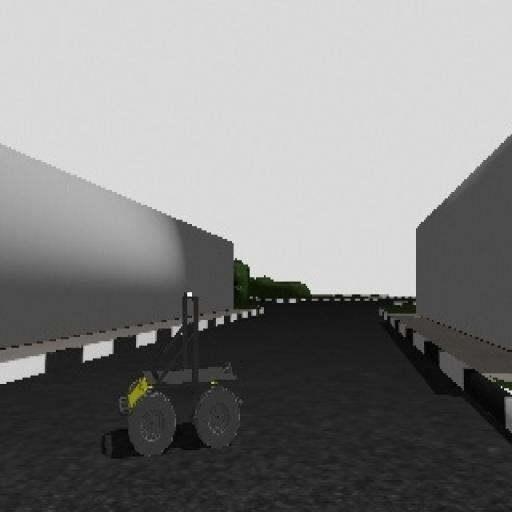huskya200: (110, 285, 252, 463)
